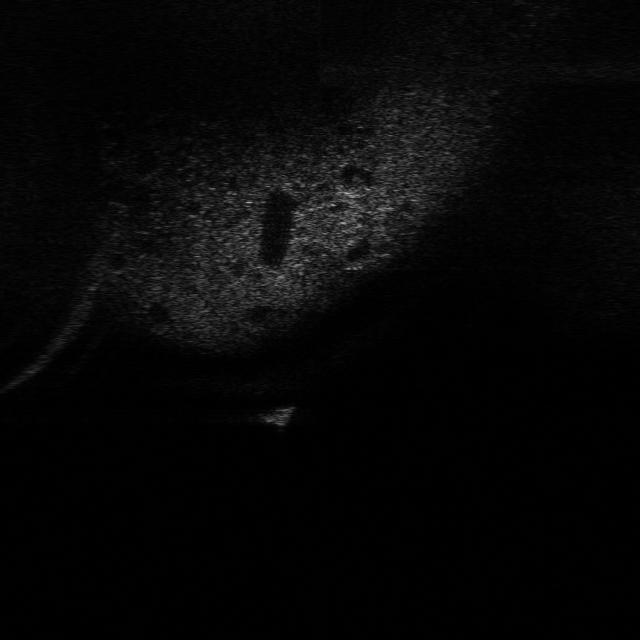cube: (253, 402, 298, 430)
